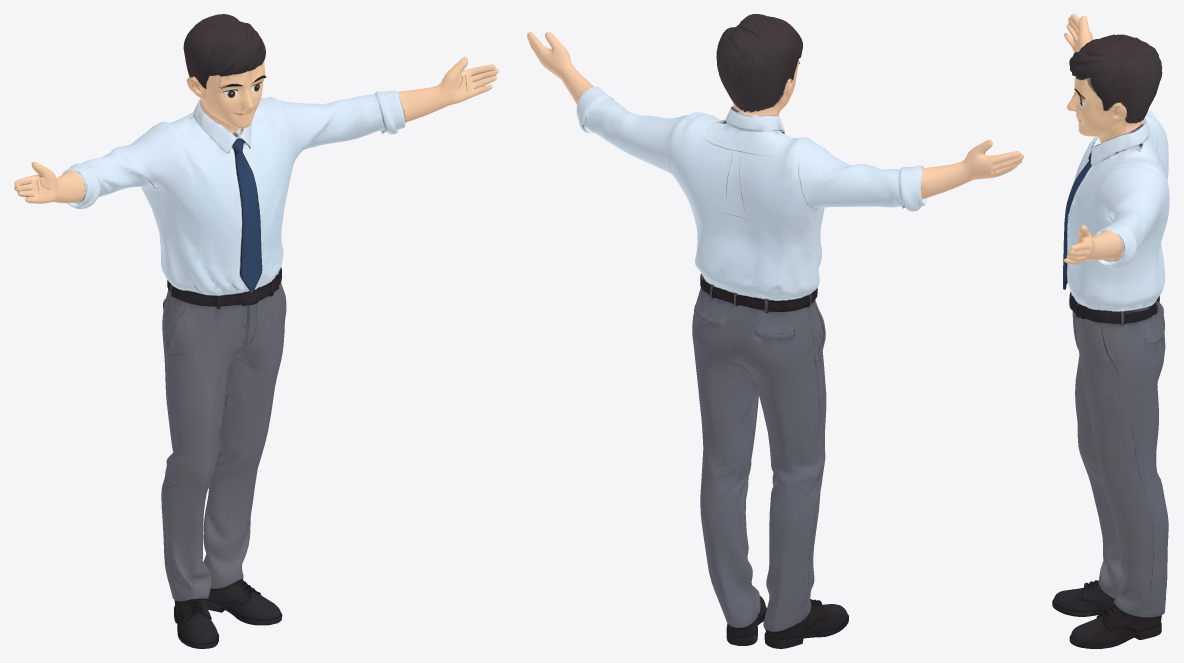
The model's file is open_arms.glb.
The picture shows the model from 3 angles, left to right: view 1: azimuth 30°, elevation 25°; view 2: azimuth 150°, elevation 25°; view 3: azimuth 270°, elevation 25°; orthographic projection. The views are drawn at different scales.
Size of the model in its own units: 1.62 by 1.9 by 0.3407.
Materials: 1 (1 with a texture image).
